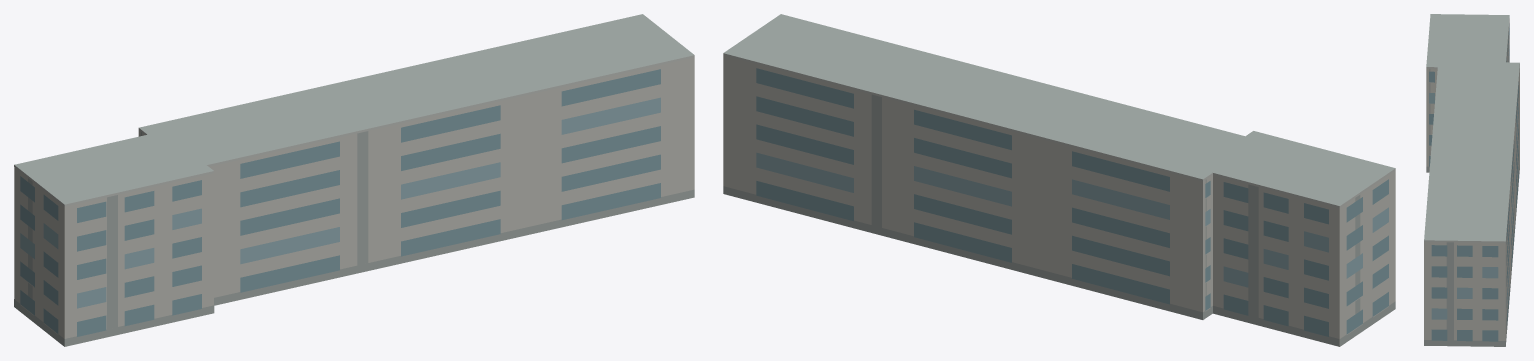
Rendered from residential-96a7dd5d-301b-4e41-b210-d082b01ad051.glb.
3 views of the same model, side by side, from view 1: azimuth 30°, elevation 25°; view 2: azimuth 150°, elevation 25°; view 3: azimuth 270°, elevation 25° (orthographic). The views are drawn at different scales.
Parts seen in each view (by area): view 1: residential-96a7dd5d-301b-4e41-b210-d082b01ad051.tmp; view 2: residential-96a7dd5d-301b-4e41-b210-d082b01ad051.tmp; view 3: residential-96a7dd5d-301b-4e41-b210-d082b01ad051.tmp.
Part boxes in pixels (x1=…): residential-96a7dd5d-301b-4e41-b210-d082b01ad051.tmp: x1=14, y1=14, x2=694, y2=346; residential-96a7dd5d-301b-4e41-b210-d082b01ad051.tmp: x1=723, y1=14, x2=1395, y2=346; residential-96a7dd5d-301b-4e41-b210-d082b01ad051.tmp: x1=1424, y1=14, x2=1519, y2=346.
Size of the model in its own units: 70.56 by 15.25 by 12.58.
